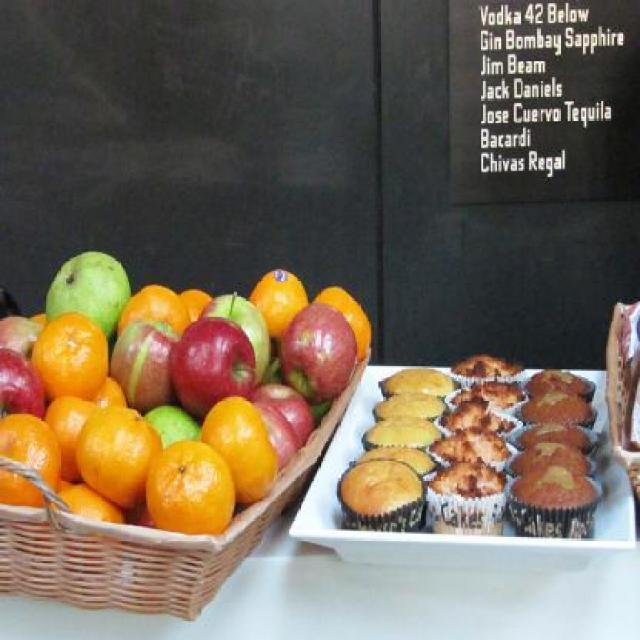Orange: (140, 441, 228, 536), (205, 395, 277, 511), (80, 408, 157, 508), (30, 314, 106, 412), (0, 416, 60, 506), (312, 282, 374, 366), (252, 270, 310, 336), (51, 396, 94, 472), (117, 282, 185, 326), (56, 484, 126, 520), (174, 290, 208, 328)
